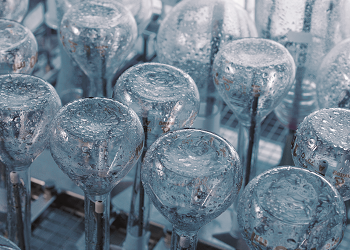Nonrec_Glass: (5, 6, 348, 249), (49, 94, 145, 248), (215, 32, 298, 194)
